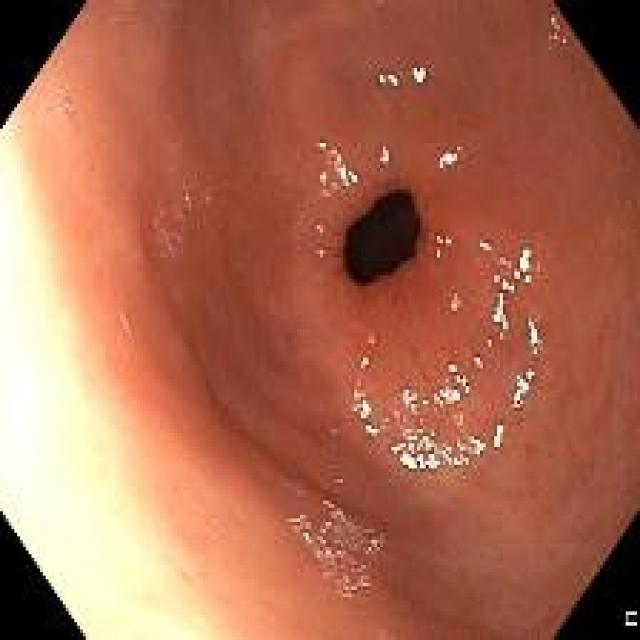bubbles: (344, 562, 367, 590), (427, 230, 445, 248), (365, 536, 382, 553), (454, 144, 468, 164), (57, 98, 72, 113), (500, 254, 511, 271)
contrast: (342, 187, 420, 290)
saturation: (0, 100, 138, 637), (137, 457, 233, 638)
specularity: (390, 428, 485, 473), (493, 274, 515, 341), (511, 369, 536, 412), (399, 386, 431, 414), (447, 362, 473, 395), (433, 380, 462, 407), (514, 244, 532, 286), (351, 387, 374, 419), (526, 317, 540, 357), (437, 151, 458, 171), (491, 422, 504, 454), (337, 164, 358, 183), (360, 419, 382, 437), (378, 71, 398, 88), (411, 66, 426, 85), (434, 233, 453, 247), (356, 356, 369, 370), (378, 148, 391, 161), (473, 355, 484, 369), (485, 337, 497, 349), (449, 300, 460, 313), (479, 240, 490, 253), (432, 247, 442, 261), (317, 140, 325, 148)
